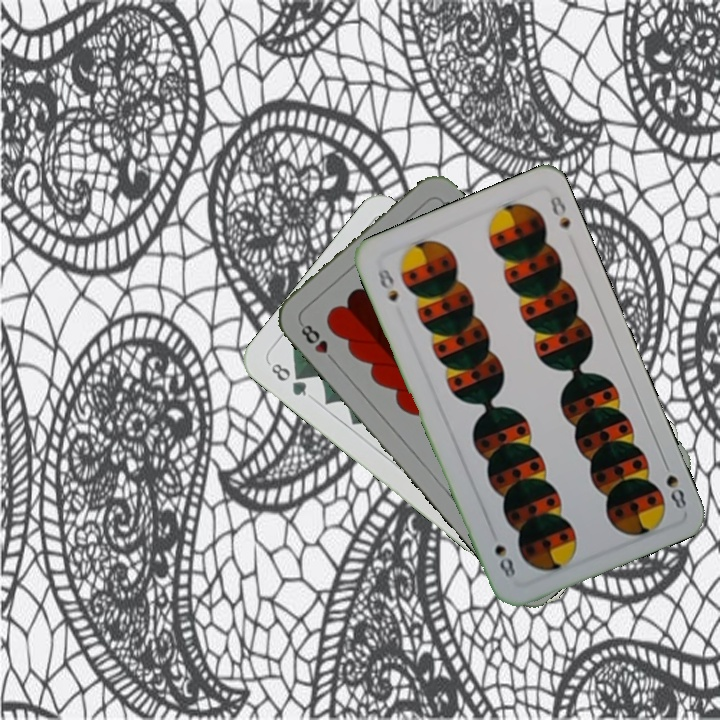G8: (267, 359, 310, 399)
H8: (296, 318, 339, 366)
S8: (658, 455, 689, 513), (373, 264, 401, 305)
